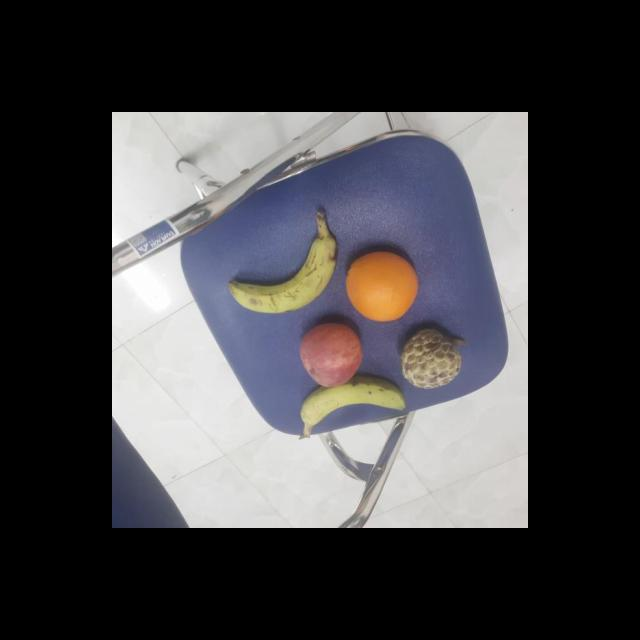Sakya fruit: (396, 324, 466, 388)
apple: (293, 318, 365, 388)
banana: (227, 234, 341, 317), (295, 378, 406, 437)
orange: (345, 249, 419, 323)
